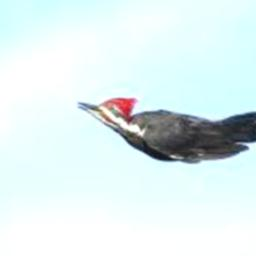Woodpecker: (78, 97, 256, 161)
